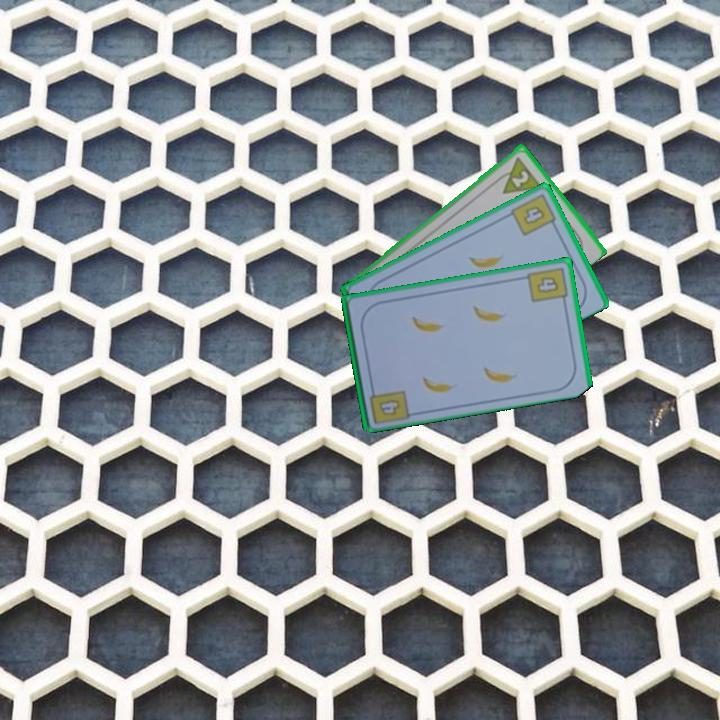2p: (491, 153, 544, 197)
4b: (507, 190, 560, 239), (524, 263, 570, 307), (375, 395, 404, 418)
